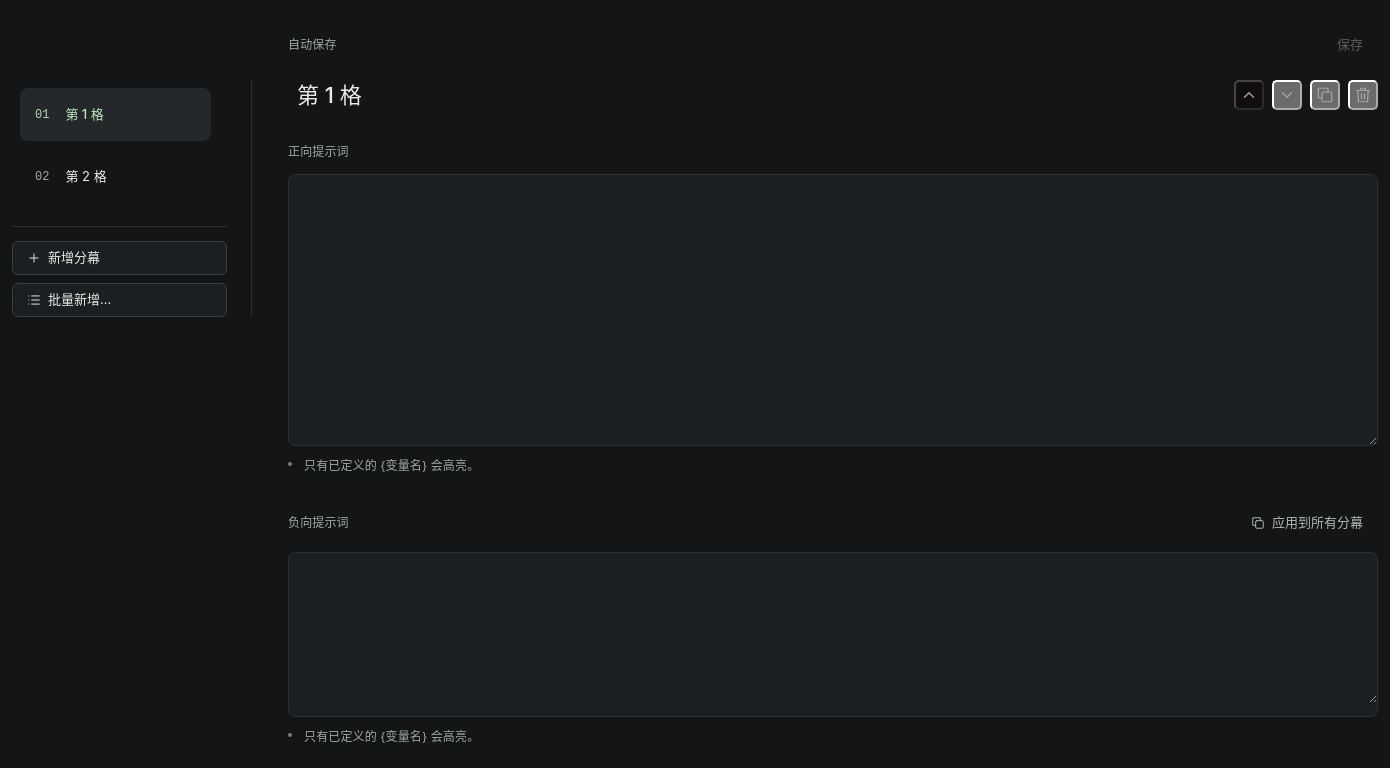
storyboard editing recovery › stays on the original frame with its input when saving fails
In the text box with id "workshop-frame-prompt": (833, 310) [289,175,1377,445], type "keep me"
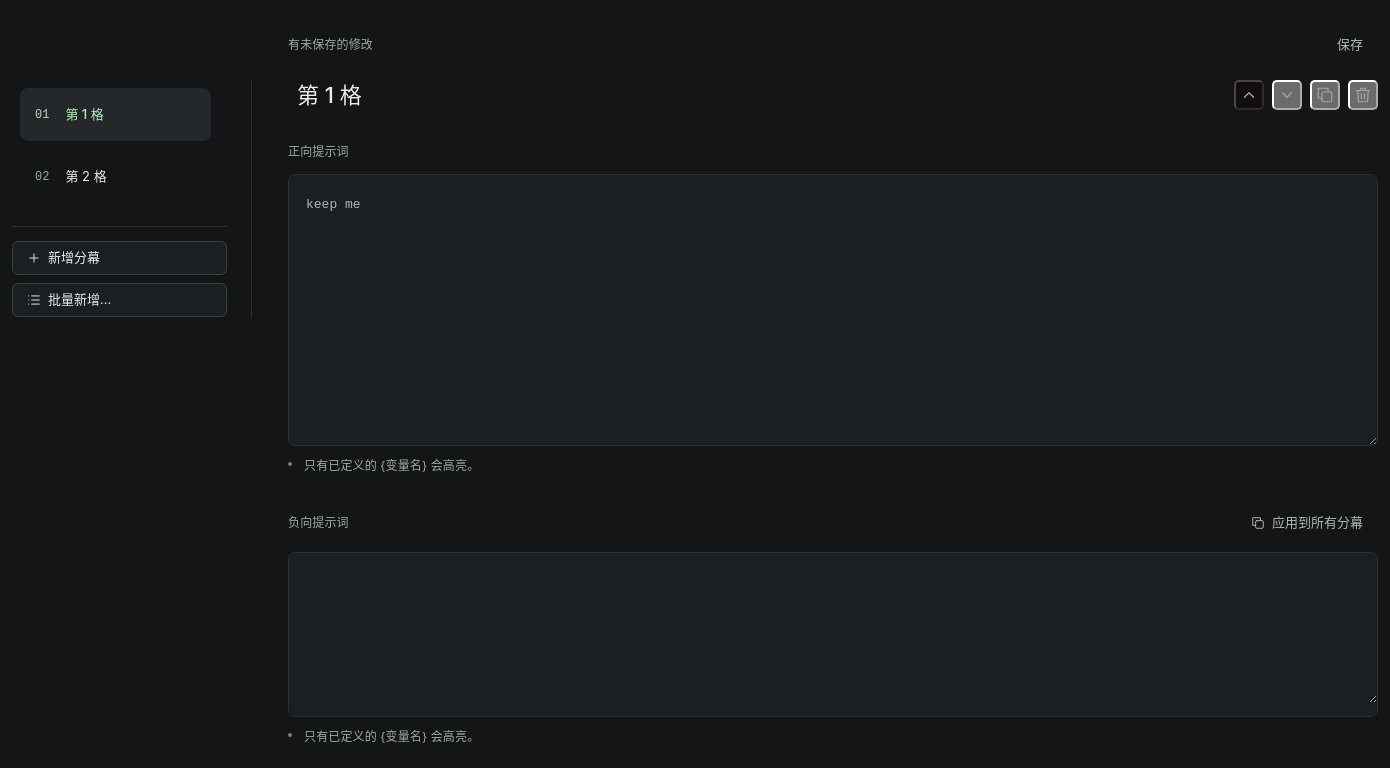
Click the button "02 第 2 格": (116, 177) [20,150,211,204]
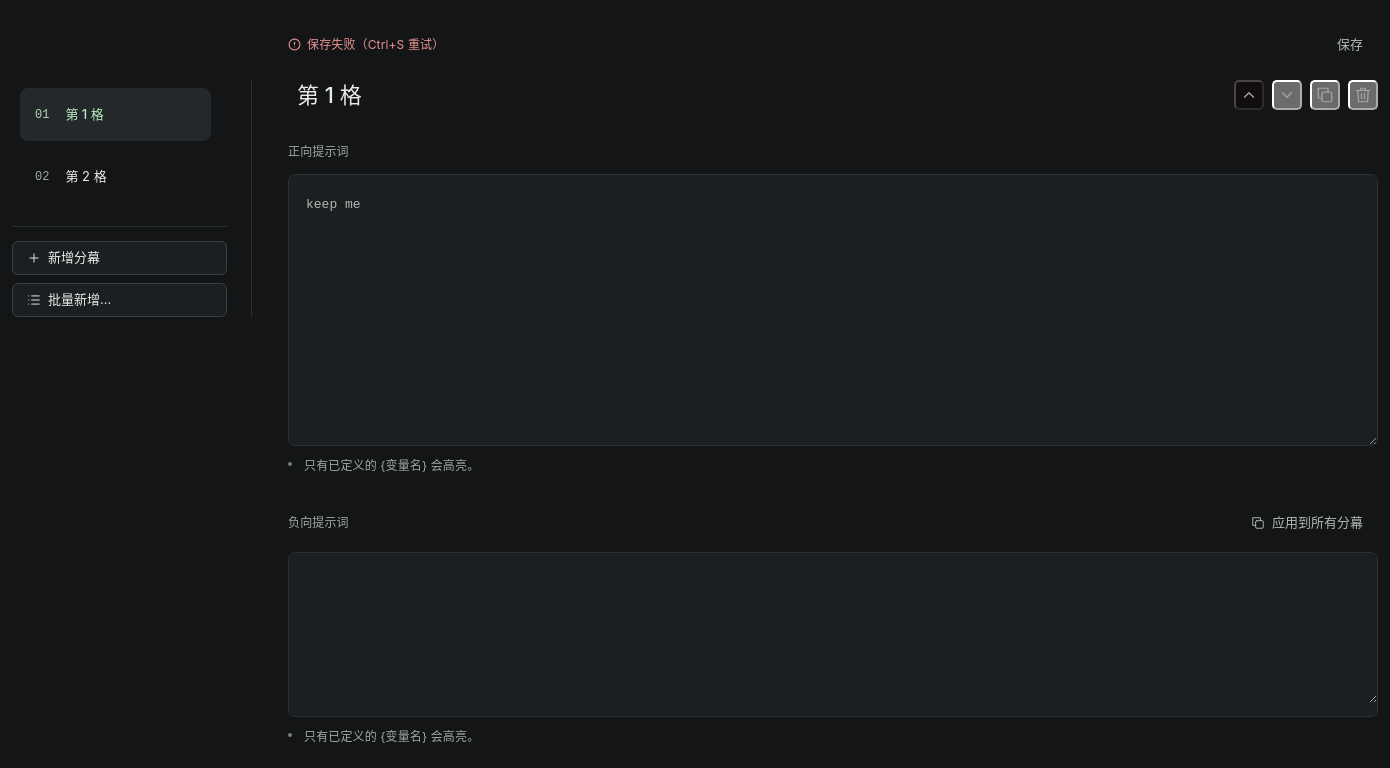
Expected: the text "保存失败（Ctrl+S 重试）" is shown, [288,35,444,55]
